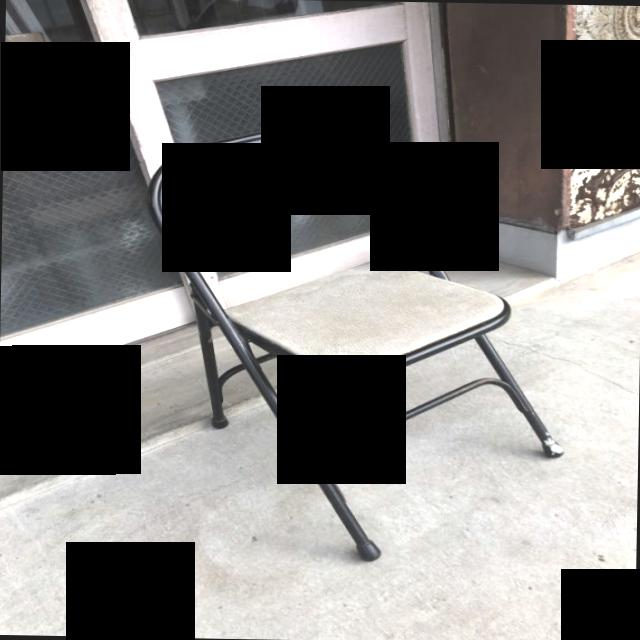chair vintage: (138, 118, 571, 568)
